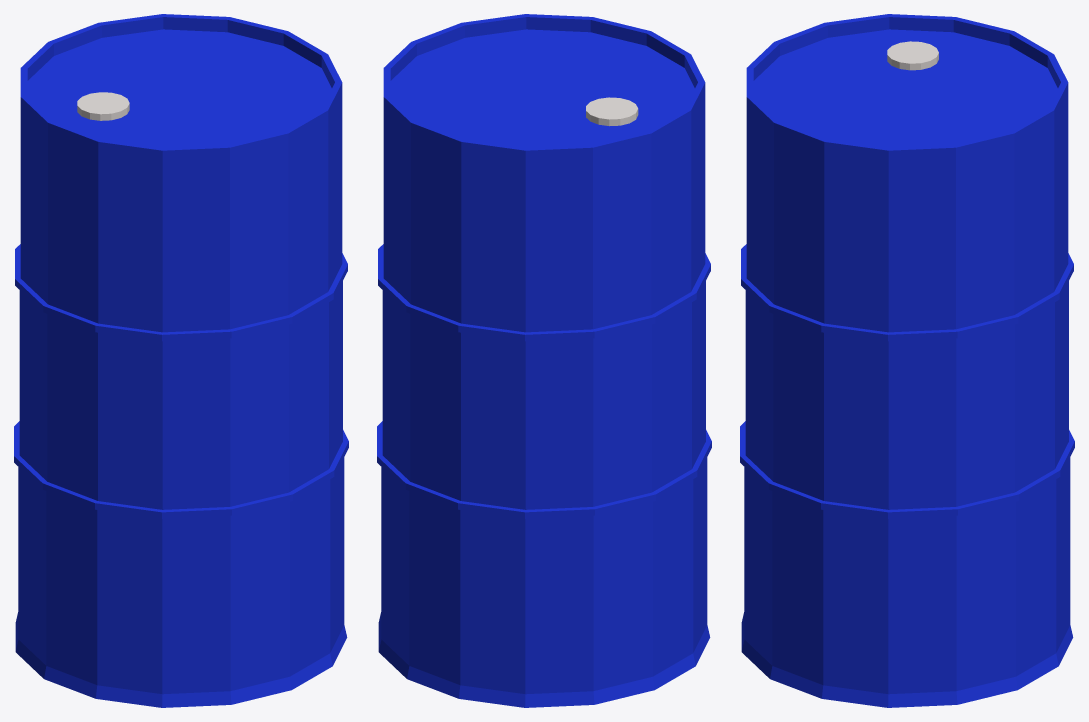
File: GasTankbarrel2.fbx
The picture shows the model from 3 angles, left to right: view 1: azimuth 30°, elevation 25°; view 2: azimuth 150°, elevation 25°; view 3: azimuth 270°, elevation 25°; orthographic projection.
Visible parts, largest first — view 1: Cylinder, Cylinder.001; view 2: Cylinder, Cylinder.001; view 3: Cylinder, Cylinder.001.
Boxes of the visible parts, x1=… form: Cylinder: x1=14, y1=14, x2=348, y2=707; Cylinder.001: x1=77, y1=92, x2=129, y2=120; Cylinder: x1=377, y1=14, x2=711, y2=707; Cylinder.001: x1=586, y1=97, x2=638, y2=126; Cylinder: x1=740, y1=14, x2=1074, y2=707; Cylinder.001: x1=887, y1=41, x2=938, y2=70.
Bounding box in the file's own units: 201 × 365 × 200.
